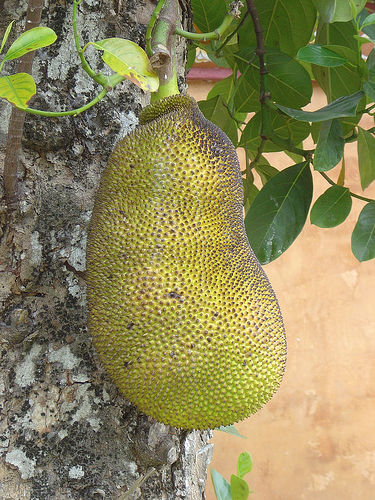jackfruit: (82, 67, 288, 432)
